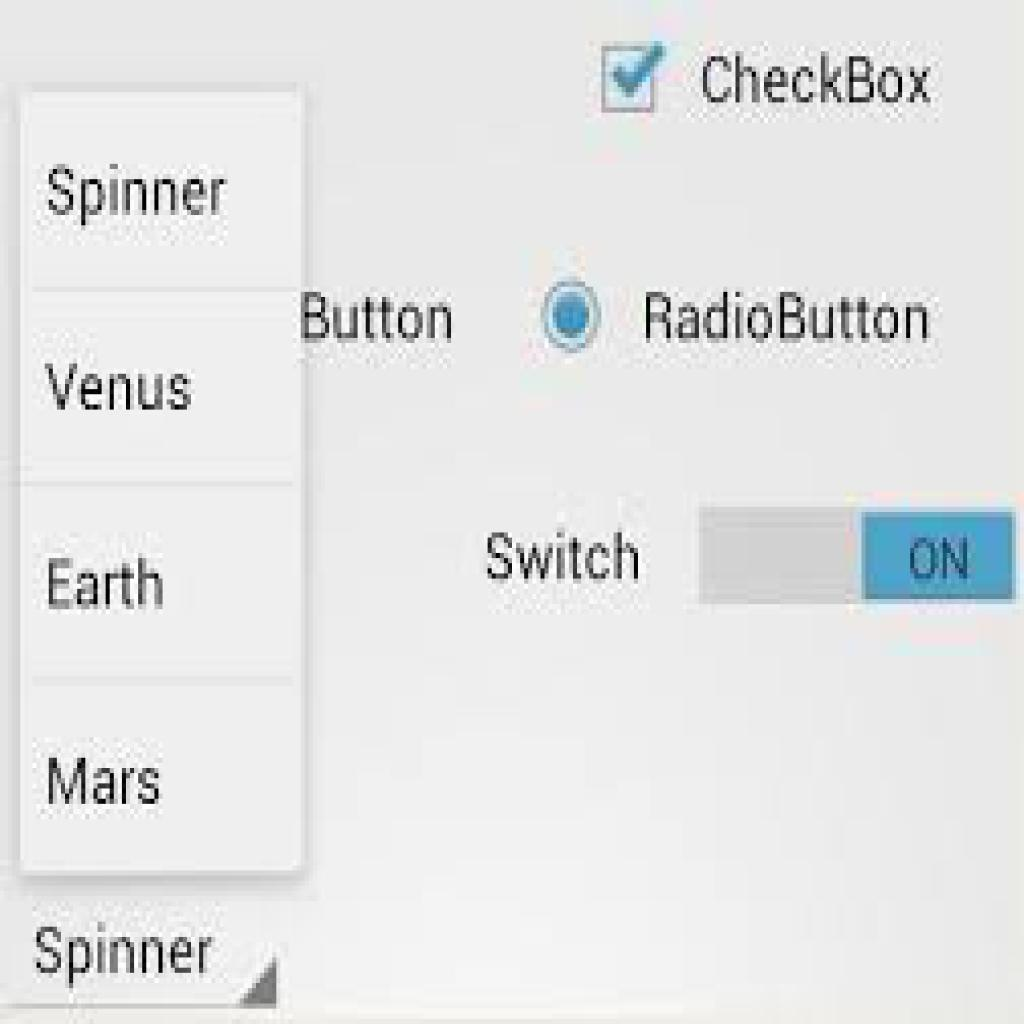checkbox: (600, 46, 659, 114)
radio: (536, 270, 606, 360)
switch: (699, 506, 1015, 606)
